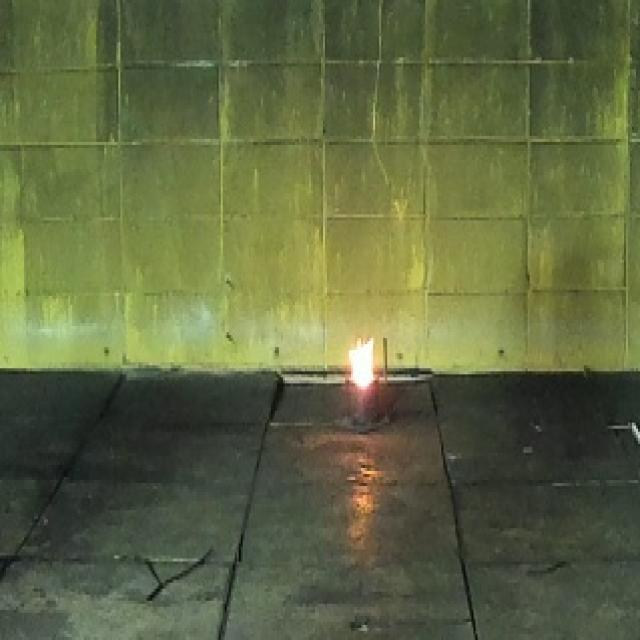Fire: (348, 337, 374, 390)
